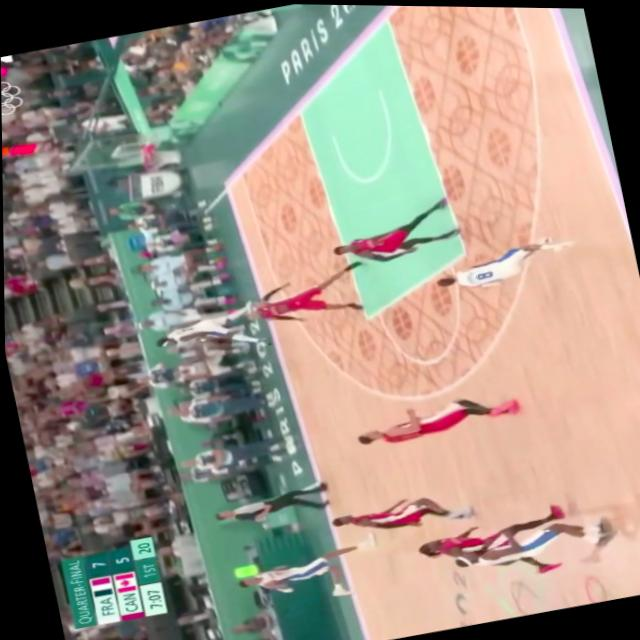ball_handler: (428, 233, 572, 299)
